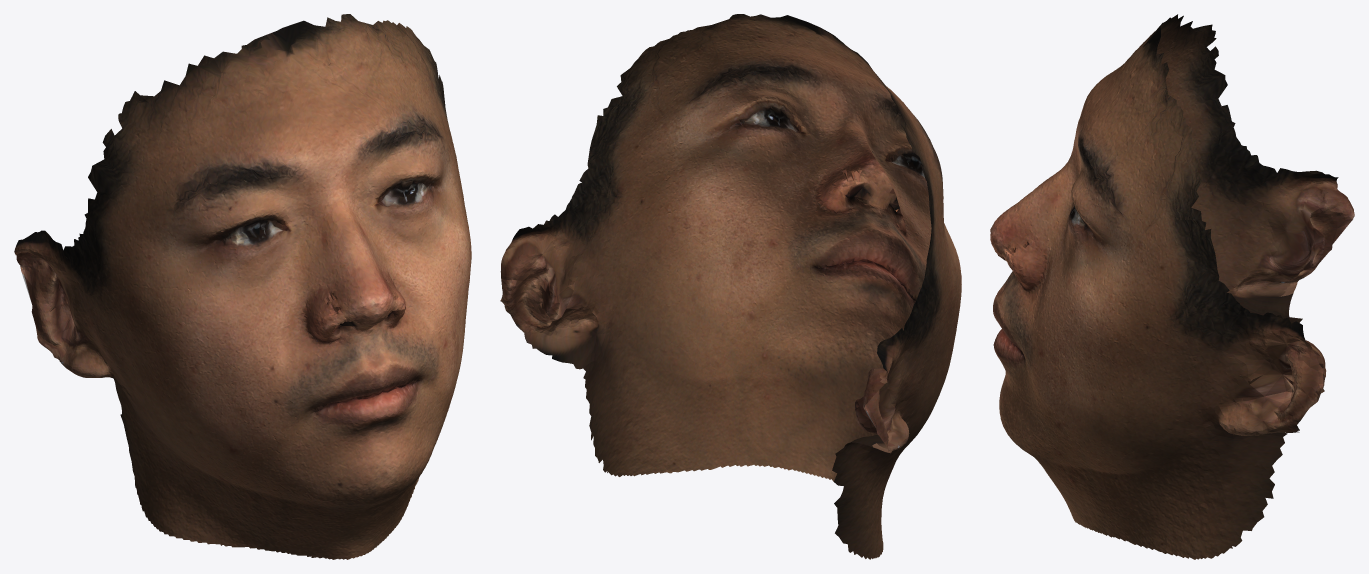
File: predicted_face.obj
The picture shows the model from 3 angles, left to right: view 1: azimuth 30°, elevation 25°; view 2: azimuth 150°, elevation 25°; view 3: azimuth 270°, elevation 25°; orthographic projection. The views are drawn at different scales.
Size of the model in its own units: 0.1972 by 0.2376 by 0.1644.
1 material, 1 textured.
